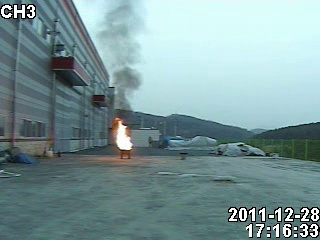fire: (112, 117, 131, 152)
smoke: (95, 2, 144, 117)
